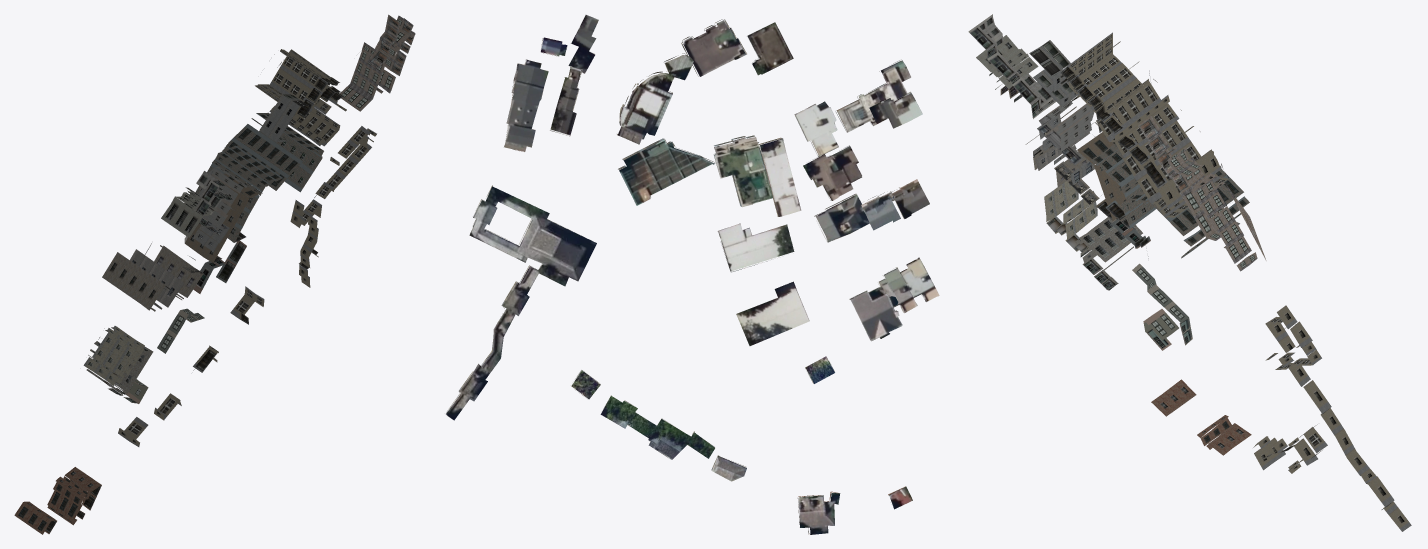
The model's file is tile_LOD4_r14_c8.glb.
3 renders of one model, left to right at view 1: azimuth 30°, elevation 25°; view 2: azimuth 150°, elevation 25°; view 3: azimuth 270°, elevation 25°, orthographic. The views are drawn at different scales.
Bounding box in the file's own units: 141 × 153 × 117.
98 materials, 98 textured.
